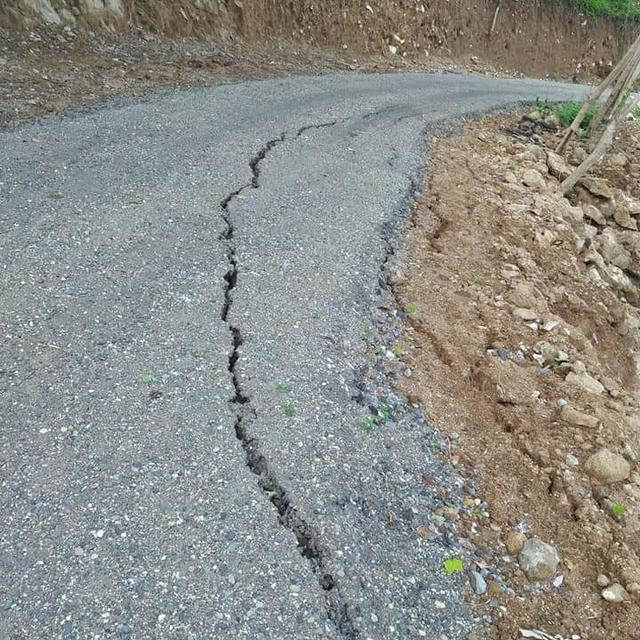retak_memanjang: (166, 131, 391, 640), (155, 97, 407, 210)
